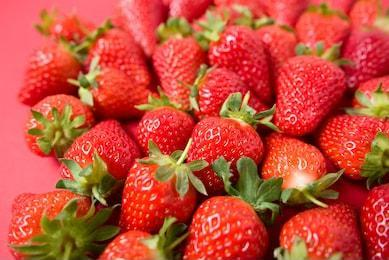Fresa: (54, 116, 151, 202), (178, 110, 272, 198), (1, 184, 108, 260), (267, 48, 351, 143), (113, 149, 202, 237), (247, 126, 338, 207), (177, 185, 274, 260), (201, 21, 278, 106), (186, 61, 276, 132), (311, 108, 389, 188), (75, 63, 175, 123), (20, 89, 99, 164), (278, 196, 367, 260), (146, 25, 207, 113)
